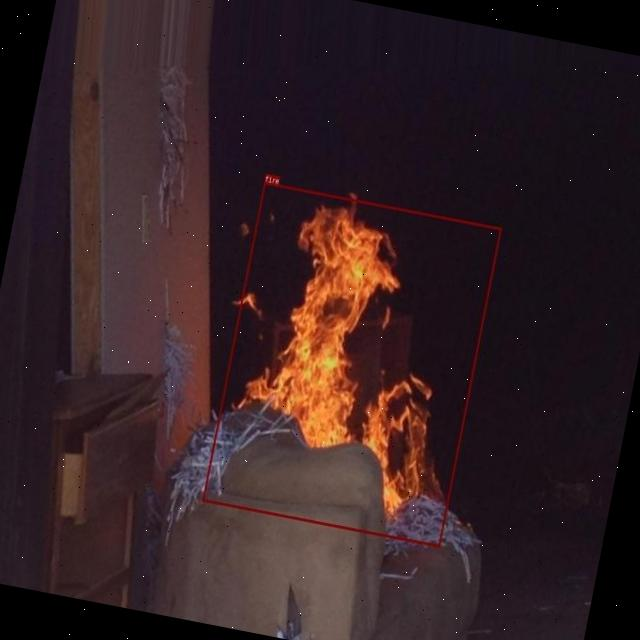fire: (202, 182, 502, 547)
